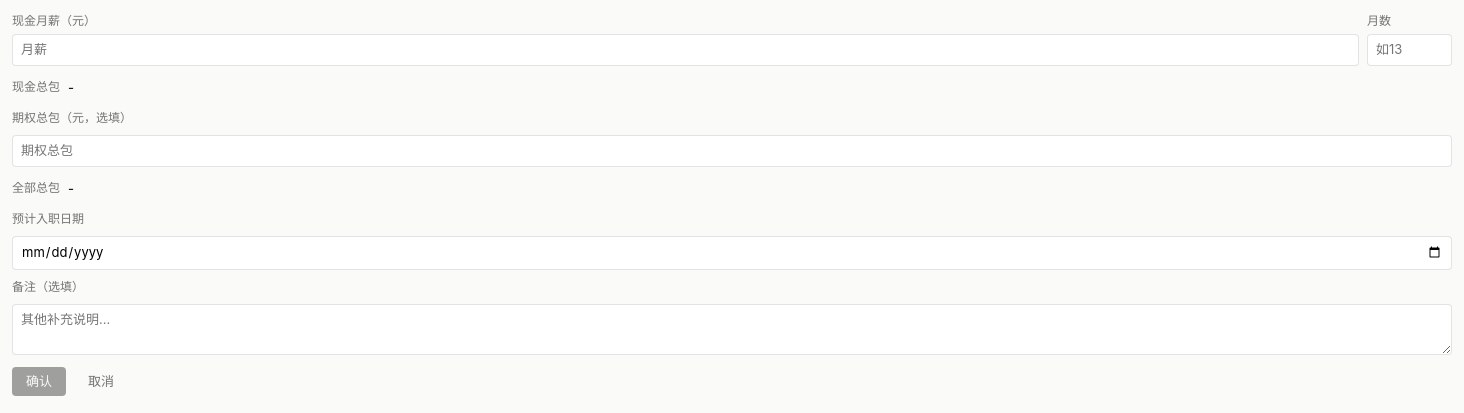
Scenario: OfferForm › 自动计算全部总包（含期权）
Type "30000" into the number field with placeholder "月薪".
click(686, 50); type("30000")  # box [12, 34, 1359, 66]
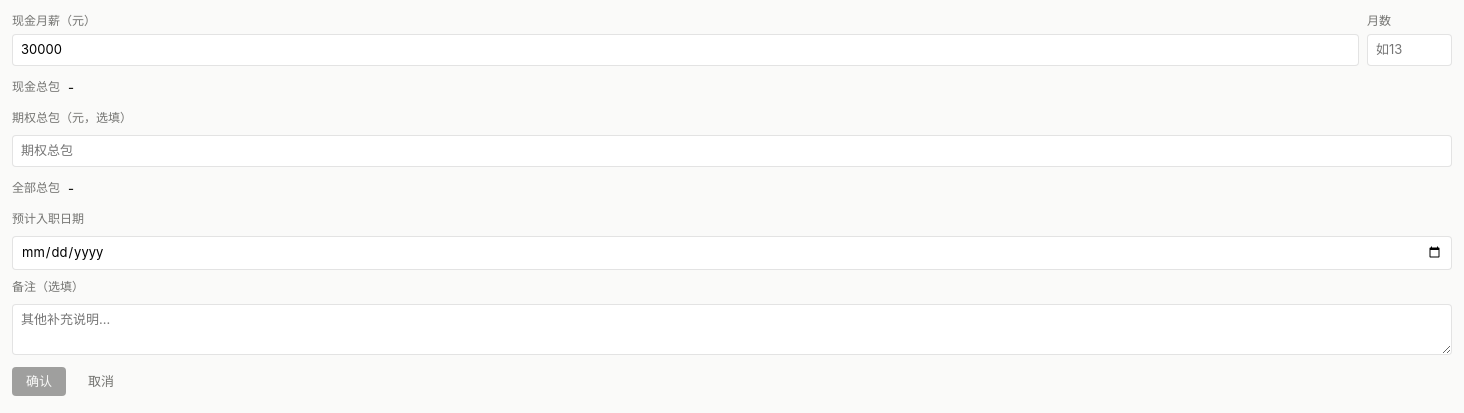
Type "13" into the number field with placeholder "如13".
click(1410, 50); type("13")  # box [1367, 34, 1452, 66]
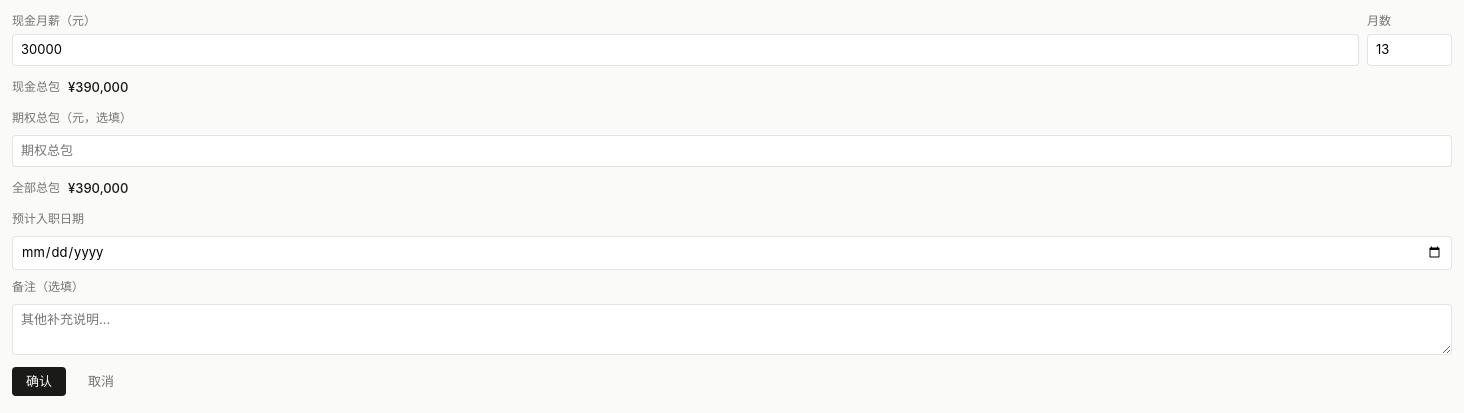
Type "100000" into the number field with placeholder "期权总包".
click(732, 151); type("100000")  # box [12, 135, 1452, 166]
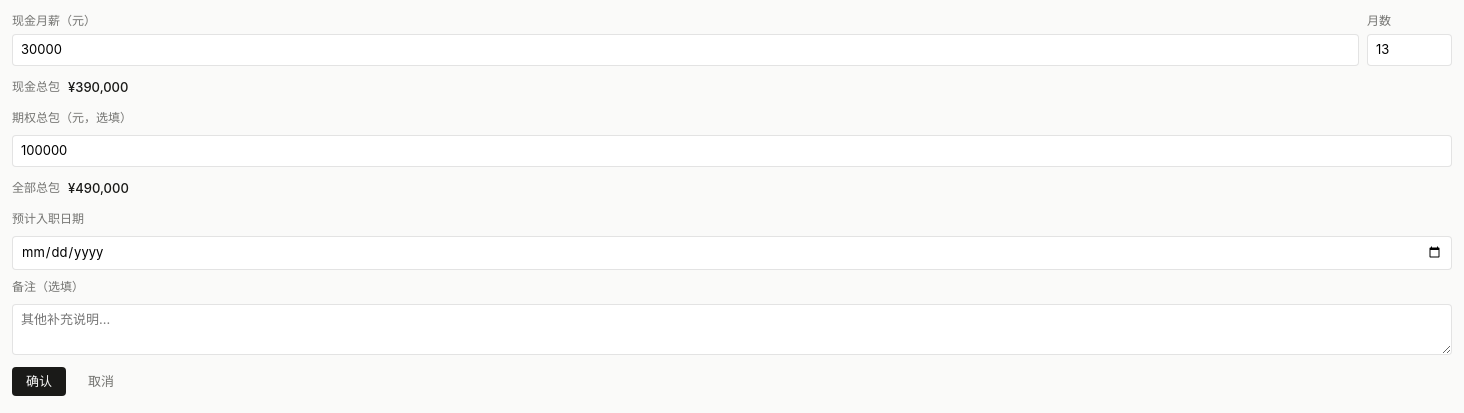
expect the text with class "computed-value" reads "¥490,000": met, box [68, 180, 129, 196]
